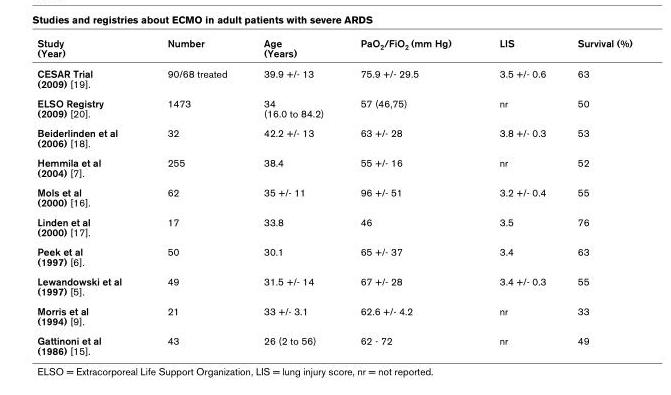table: (36, 36, 631, 356)
table column: (341, 36, 474, 356), (36, 36, 143, 356), (143, 36, 244, 356), (244, 36, 341, 356), (474, 36, 561, 356), (561, 36, 631, 356)
table column header: (36, 36, 631, 62)
table row: (36, 62, 631, 93), (36, 122, 631, 152), (36, 152, 631, 182), (36, 211, 631, 241), (36, 241, 631, 271), (36, 300, 631, 330), (36, 93, 631, 122), (36, 182, 631, 211), (36, 271, 631, 300), (36, 36, 631, 62), (36, 330, 631, 356)
